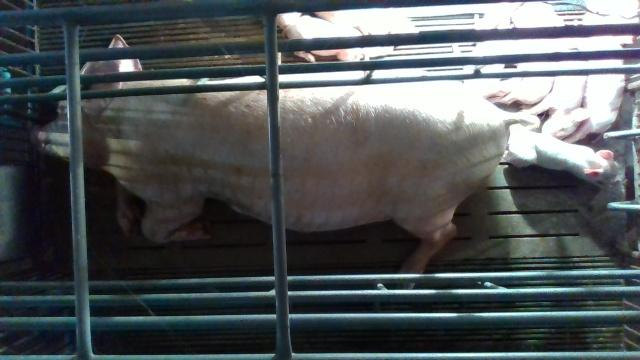piglet: (559, 13, 624, 143), (484, 1, 565, 104), (504, 130, 618, 185), (521, 49, 587, 140), (276, 13, 369, 62)
sow-sleep: (35, 33, 541, 287)
